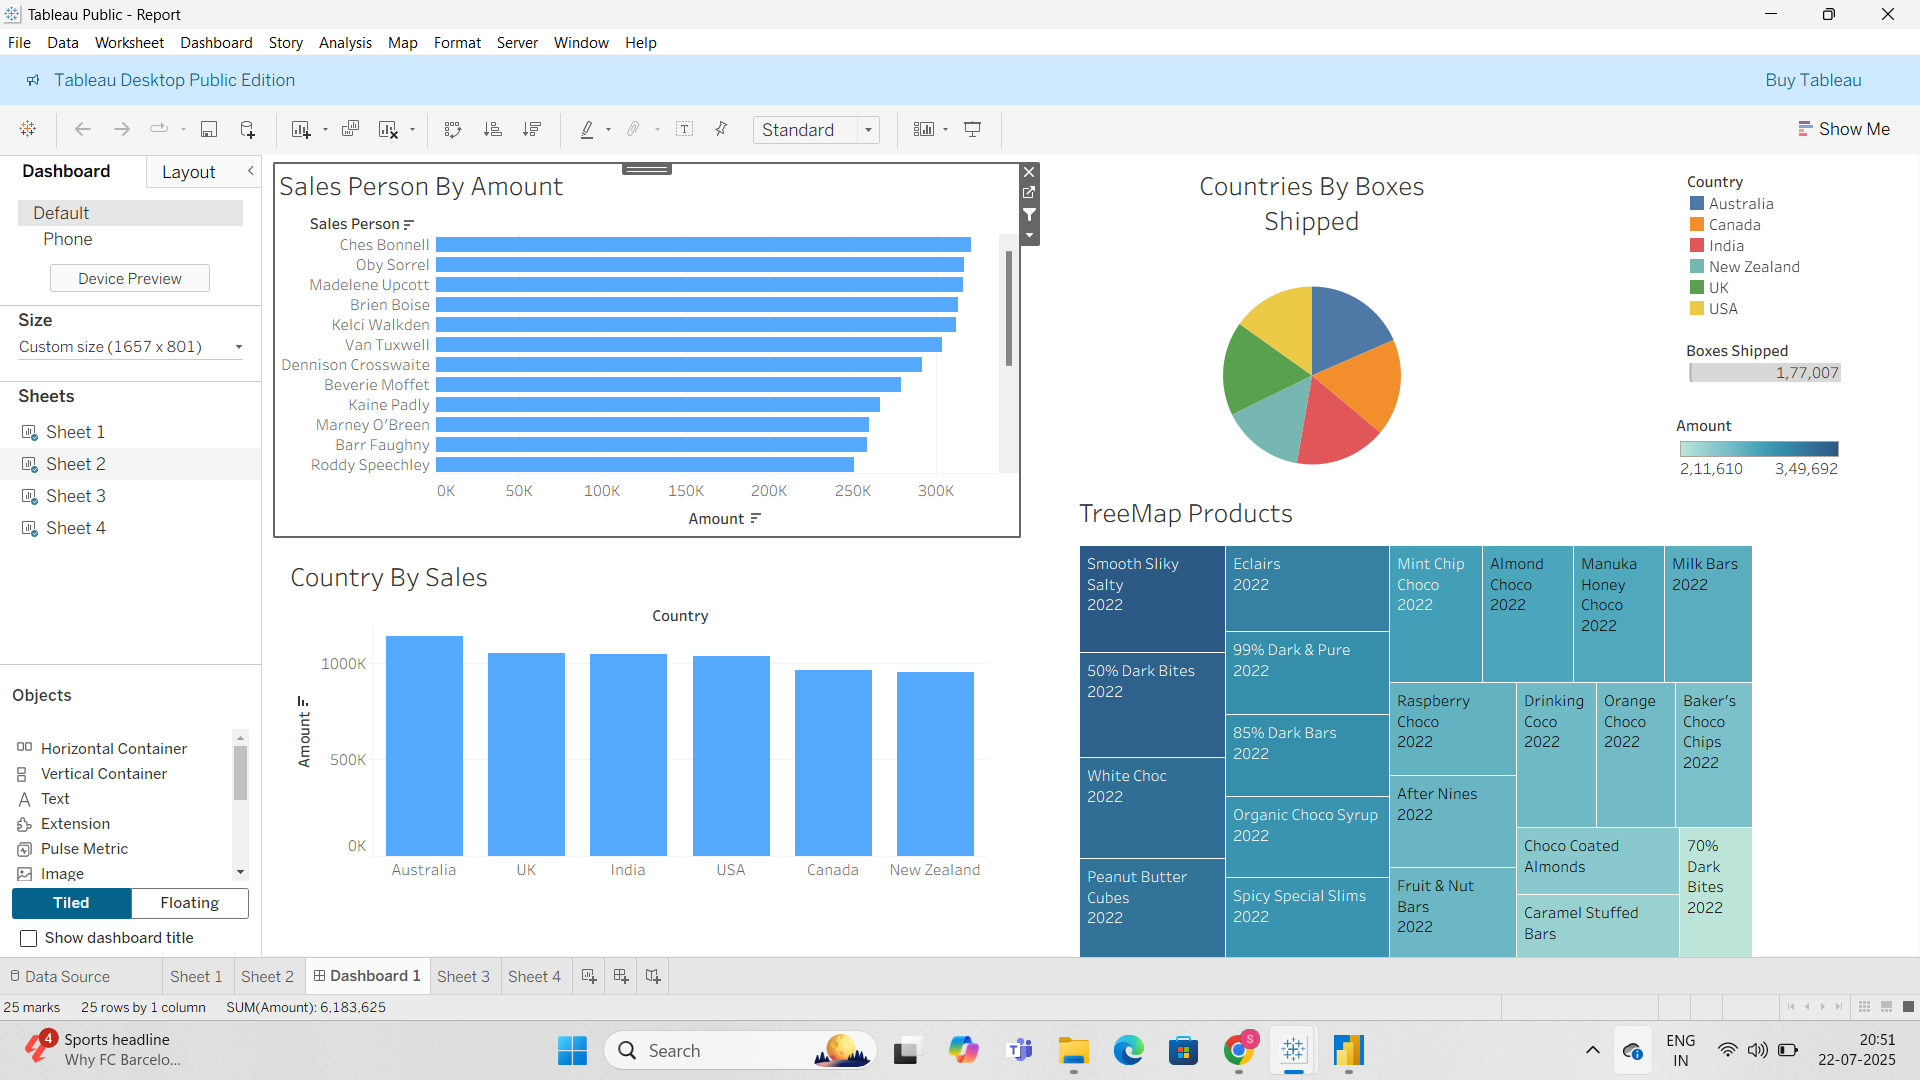

What the dashboard file says about the page in this screenshot:
{"tool":"tableau","page":{"name":"Dashboard 1","canvas":[1657,801],"ordinal":0},"visuals":[{"type":"worksheet","title":"Sheet 2","mark":"Automatic","rows":["Sales Person"],"cols":["Amount"],"box":[13,9,744,372]},{"type":"worksheet","title":"Sheet 3","mark":"Pie","box":[903,9,294,303]},{"type":"legend","title":"Sheet 3","param":"[federated.148daq50cbynm71buneax1dhw6j5].[none:Country:nk]","box":[1425,16,211,246]},{"type":"legend","title":"Sheet 3","param":"[federated.148daq50cbynm71buneax1dhw6j5].[sum:Boxes Shipped:qk]","box":[1424,185,157,108]},{"type":"legend","title":"Sheet 4","param":"[federated.148daq50cbynm71buneax1dhw6j5].[sum:Amount:qk]","box":[1414,260,167,102]},{"type":"worksheet","title":"Sheet 1","mark":"Automatic","rows":["Amount"],"cols":["Country"],"box":[24,400,701,341]}]}

Visuals, with their boxes on the page's 1657x801 design canvas (x1, y1, x2, y2). These are canvas units, not pixel positions in the 1920x1080 screenshot, which may show the page scaled, cropped or inside an application window:
"Sheet 2" worksheet: (left=13, top=9, right=757, bottom=381)
"Sheet 3" worksheet (Pie marks): (left=903, top=9, right=1197, bottom=312)
"Sheet 3" legend: (left=1425, top=16, right=1636, bottom=262)
"Sheet 3" legend: (left=1424, top=185, right=1581, bottom=293)
"Sheet 4" legend: (left=1414, top=260, right=1581, bottom=362)
"Sheet 1" worksheet: (left=24, top=400, right=725, bottom=741)
